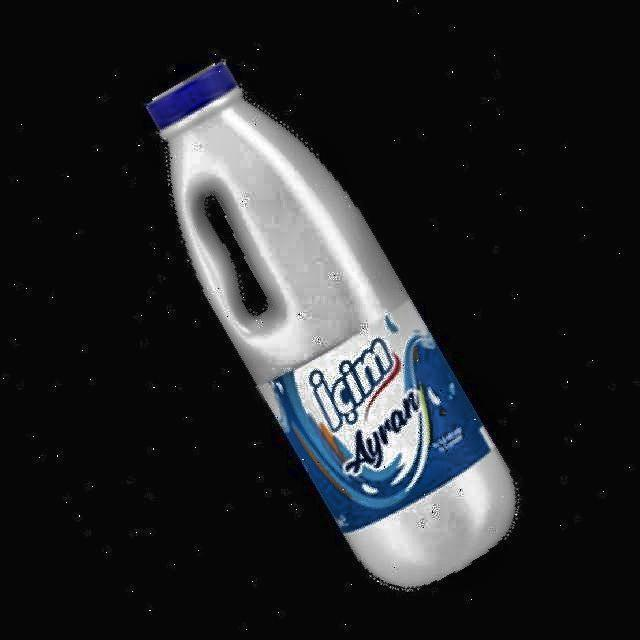plastic: (148, 62, 515, 587)
